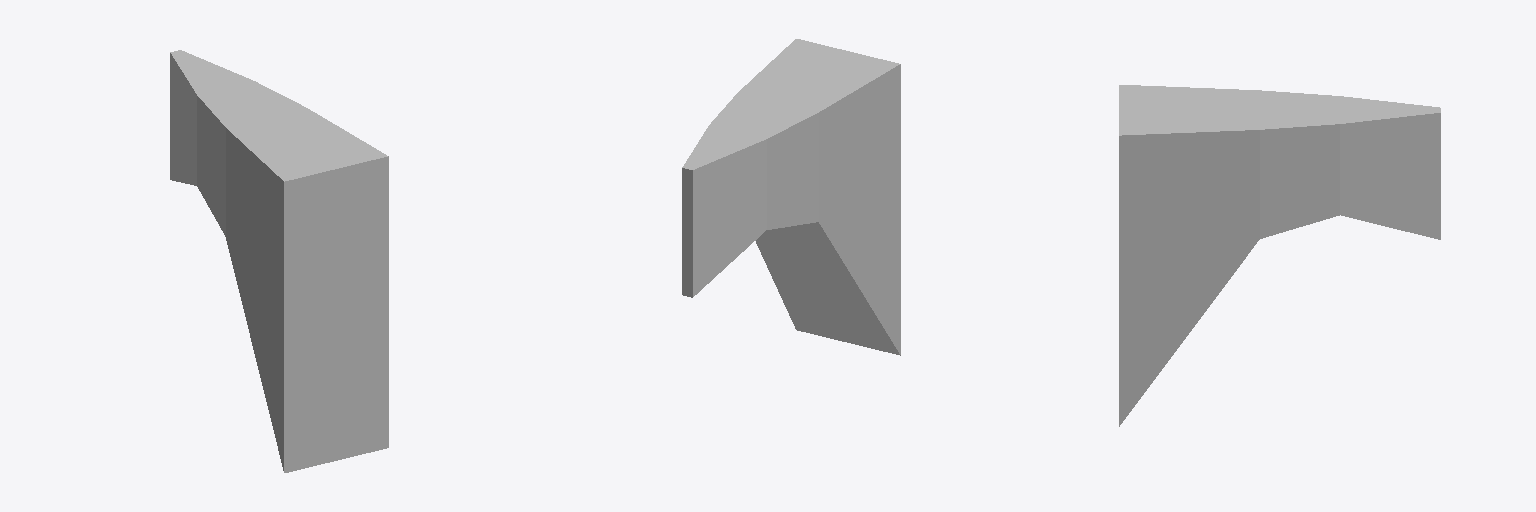
Rendered from spike_corbel.obj.
3 views of the same model, side by side, from view 1: azimuth 30°, elevation 25°; view 2: azimuth 150°, elevation 25°; view 3: azimuth 270°, elevation 25° (orthographic).
Visible parts, largest first — view 1: cuboid; view 2: cuboid; view 3: cuboid.
Part boxes in pixels (left/top/right/bottom): cuboid: left=170, top=50, right=388, bottom=472; cuboid: left=682, top=39, right=900, bottom=355; cuboid: left=1119, top=85, right=1440, bottom=426.
Bounding box in the file's own units: 0.375 × 1 × 1.